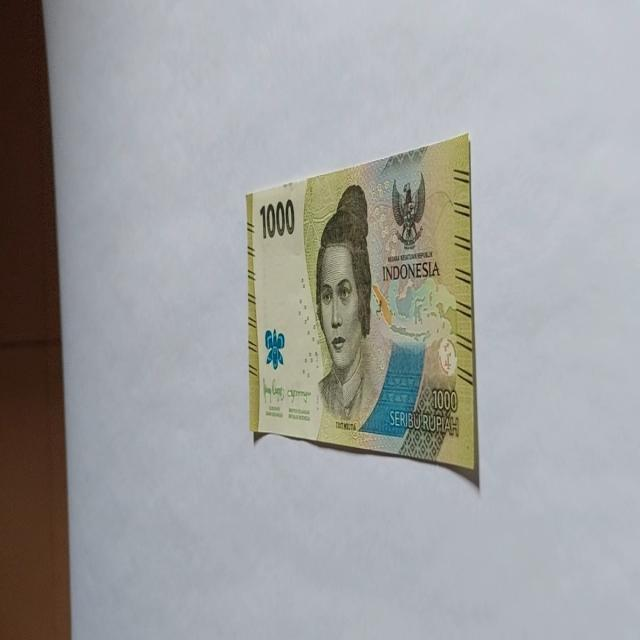seribu rupiah kertas: (246, 132, 478, 484)
